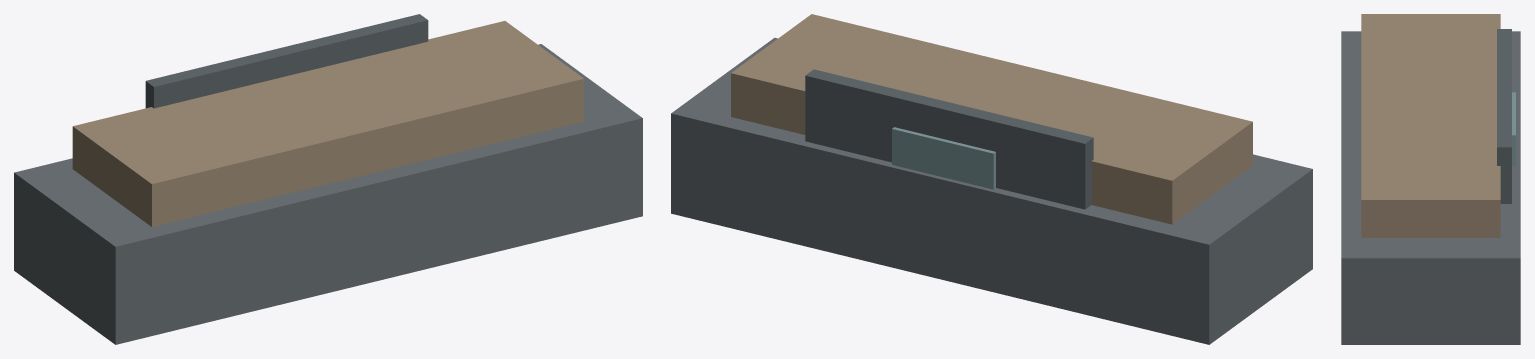
Rendered from iz3_build_defense_spikes_02.glb.
The picture shows the model from 3 angles, left to right: view 1: azimuth 30°, elevation 25°; view 2: azimuth 150°, elevation 25°; view 3: azimuth 270°, elevation 25°; orthographic projection. The views are drawn at different scales.
Visible parts, largest first — view 1: base, cabinet, panel; view 2: base, cabinet, panel, display; view 3: cabinet, base, panel, display.
Boxes of the visible parts, x1=… form: base: x1=14, y1=44, x2=642, y2=344; cabinet: x1=72, y1=21, x2=584, y2=226; panel: x1=145, y1=14, x2=428, y2=108; base: x1=671, y1=37, x2=1312, y2=344; cabinet: x1=731, y1=14, x2=1252, y2=224; panel: x1=805, y1=69, x2=1093, y2=209; display: x1=892, y1=127, x2=995, y2=189; cabinet: x1=1361, y1=14, x2=1500, y2=237; base: x1=1341, y1=31, x2=1520, y2=344; panel: x1=1497, y1=29, x2=1511, y2=203; display: x1=1512, y1=92, x2=1515, y2=166.
Size of the model in its own units: 1.8 by 0.53 by 0.6.
